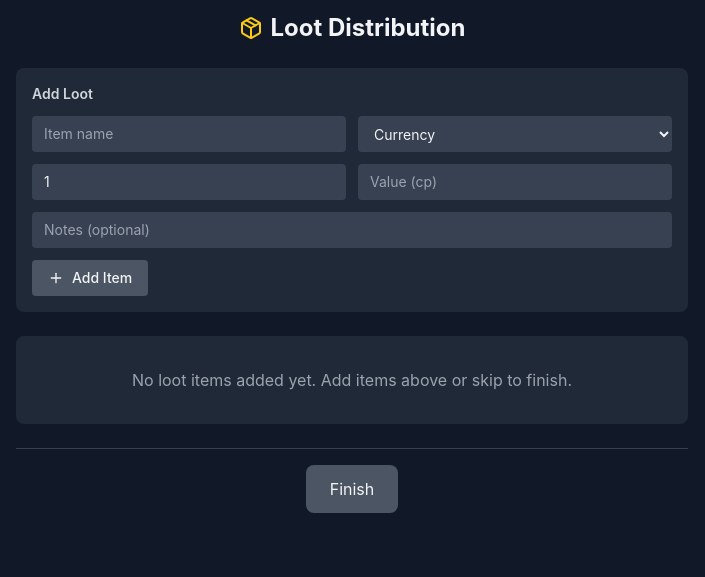
it: LootDistribution › shows the Magical checkbox only for equipment and other loot
The width and height of the screenshot is (705, 577).
Check: the checkbox labelled "Magical" is not shown
Select "Equipment" in the dropdown at (515, 134), box [358, 116, 672, 152]
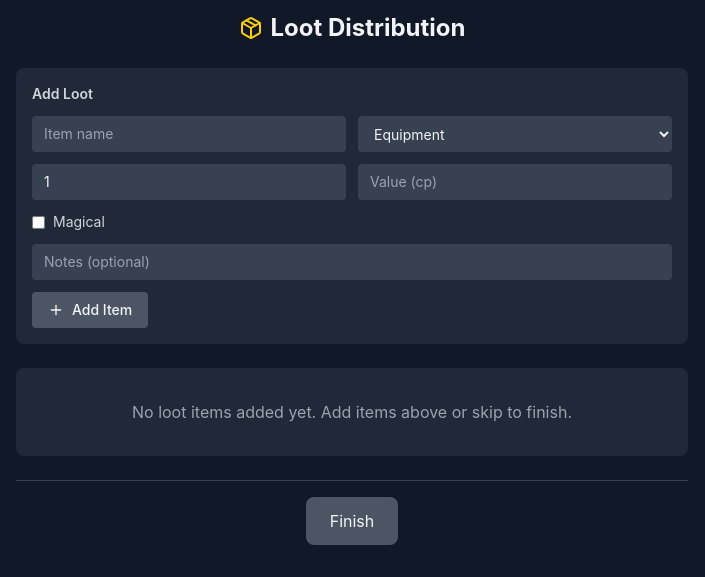
Check: the checkbox labelled "Magical" is shown, box [32, 216, 45, 228]
Select "Other" in the dropdown at (515, 134), box [358, 116, 672, 152]
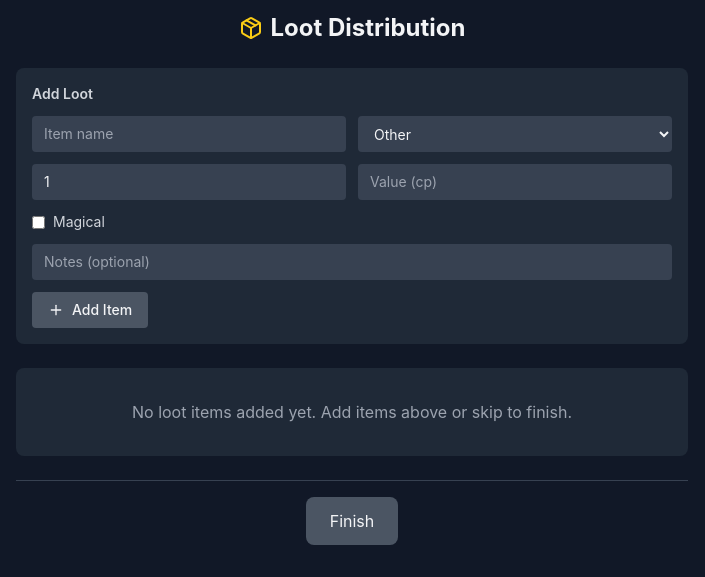
Check: the checkbox labelled "Magical" is shown, box [32, 216, 45, 228]
Select "Material" in the dropdown at (515, 134), box [358, 116, 672, 152]
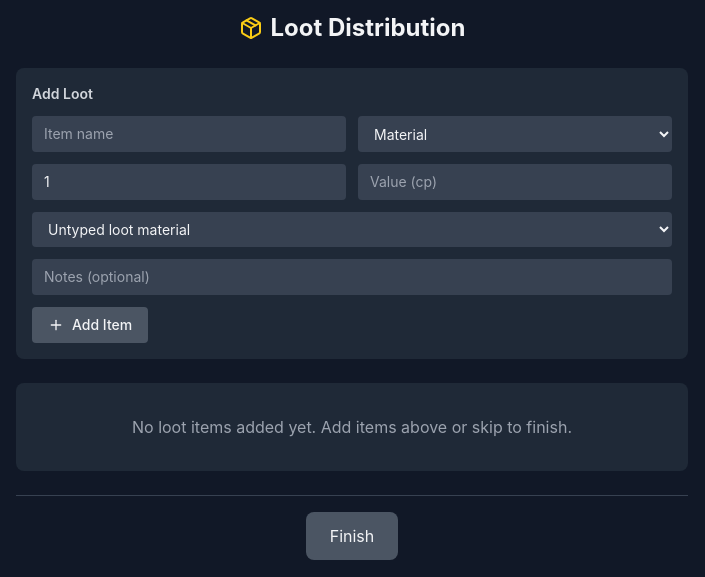
Check: the label "Magical" is gone
